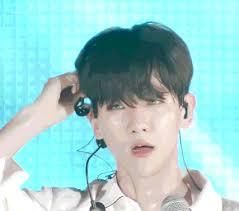earphone: (181, 102, 189, 121)
